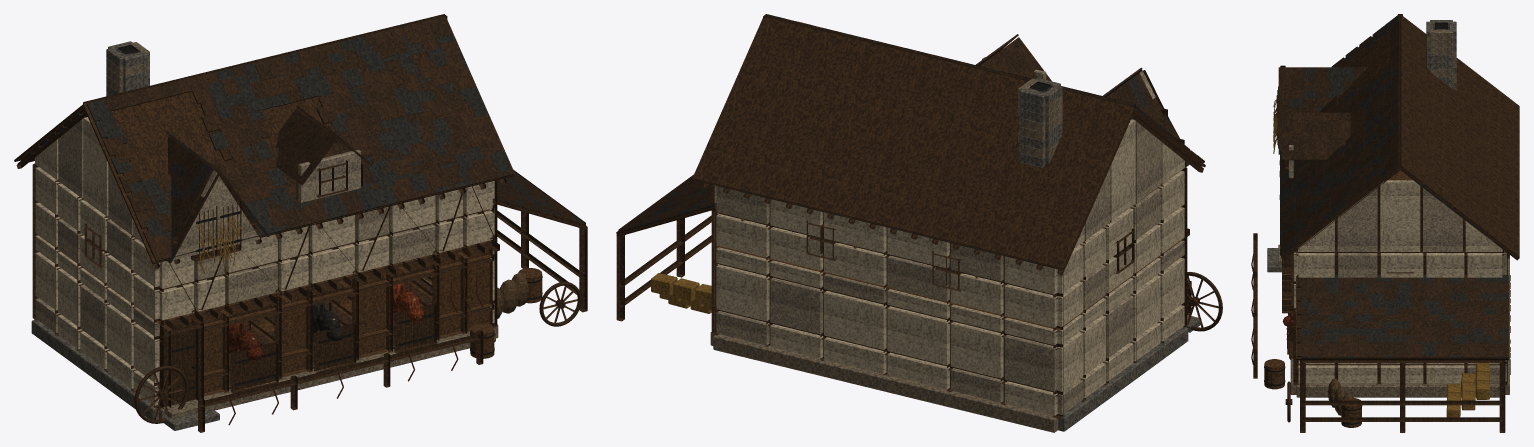
The model's file is medieval_stable_house_3d_runtime.glb.
3 renders of one model, left to right at view 1: azimuth 30°, elevation 25°; view 2: azimuth 150°, elevation 25°; view 3: azimuth 270°, elevation 25°, orthographic. The views are drawn at different scales.
Visible parts, largest first — view 1: MAIN_ROOF_DECK_-1, HAY_GABLE_FRONT_INFILL, PLINTH_FRONT, PLINTH_LEFT, DORMER_FRONT_WALL, HITCH_RAIL, GABLE_LEFT_INFILL_2, DOOR_STABLE_MAIN_PLANK_BODY, DOOR_STALL_1_PLANK_BODY, GABLE_LEFT_INFILL_3, FRONT_INFILL_2_3, DOOR_STALL_3_PLANK_BODY (+60 smaller); view 2: MAIN_ROOF_DECK_1, PLINTH_REAR, REAR_INFILL_2_1, REAR_INFILL_3_1, REAR_INFILL_4_1, REAR_INFILL_5_1, REAR_INFILL_0_1, REAR_INFILL_1_1, PLINTH_LEFT, REAR_INFILL_3_3, REAR_INFILL_2_3, GABLE_LEFT_INFILL_2 (+52 smaller); view 3: MAIN_ROOF_DECK_1, GABLE_RIGHT_INFILL_2, MAIN_ROOF_DECK_-1, GABLE_RIGHT_INFILL_1, PLINTH_RIGHT, GABLE_RIGHT_INFILL_3, LEAN_TO_RACK_8.45_1.15, RIGHT_INFILL_2_4, LEAN_TO_RACK_8.45_0.55, RIGHT_INFILL_1_4, RIGHT_INFILL_3_4, LEAN_TO_ROOF_DECK (+20 smaller).
Boxes of the visible parts, bbox=[...] form: MAIN_ROOF_DECK_-1: bbox=[83, 18, 515, 263]; HAY_GABLE_FRONT_INFILL: bbox=[173, 170, 260, 260]; PLINTH_FRONT: bbox=[159, 328, 495, 419]; PLINTH_LEFT: bbox=[31, 320, 158, 419]; DORMER_FRONT_WALL: bbox=[298, 149, 360, 202]; HITCH_RAIL: bbox=[200, 333, 480, 407]; GABLE_LEFT_INFILL_2: bbox=[83, 117, 108, 216]; DOOR_STABLE_MAIN_PLANK_BODY: bbox=[171, 329, 198, 405]; DOOR_STALL_1_PLANK_BODY: bbox=[230, 342, 278, 393]; GABLE_LEFT_INFILL_3: bbox=[58, 119, 83, 198]; FRONT_INFILL_2_3: bbox=[226, 262, 277, 304]; DOOR_STALL_3_PLANK_BODY: bbox=[394, 303, 436, 353]; MAIN_ROOF_DECK_1: bbox=[692, 17, 1134, 269]; PLINTH_REAR: bbox=[713, 334, 1058, 432]; REAR_INFILL_2_1: bbox=[887, 306, 949, 365]; REAR_INFILL_3_1: bbox=[824, 291, 886, 349]; REAR_INFILL_4_1: bbox=[770, 277, 823, 334]; REAR_INFILL_5_1: bbox=[716, 264, 769, 321]; REAR_INFILL_0_1: bbox=[1004, 335, 1057, 391]; REAR_INFILL_1_1: bbox=[950, 321, 1003, 378]; PLINTH_LEFT: bbox=[1058, 327, 1188, 431]; REAR_INFILL_3_3: bbox=[824, 242, 886, 285]; REAR_INFILL_2_3: bbox=[887, 255, 949, 301]; GABLE_LEFT_INFILL_2: bbox=[1110, 119, 1135, 221]; MAIN_ROOF_DECK_1: bbox=[1400, 15, 1519, 257]; GABLE_RIGHT_INFILL_2: bbox=[1380, 180, 1420, 251]; MAIN_ROOF_DECK_-1: bbox=[1282, 30, 1400, 258]; GABLE_RIGHT_INFILL_1: bbox=[1337, 187, 1377, 251]; PLINTH_RIGHT: bbox=[1296, 383, 1499, 397]; GABLE_RIGHT_INFILL_3: bbox=[1423, 188, 1462, 251]; LEAN_TO_RACK_8.45_1.15: bbox=[1302, 400, 1502, 405]; RIGHT_INFILL_2_4: bbox=[1380, 253, 1423, 277]; LEAN_TO_RACK_8.45_0.55: bbox=[1302, 417, 1502, 421]; RIGHT_INFILL_1_4: bbox=[1338, 253, 1377, 277]; RIGHT_INFILL_3_4: bbox=[1426, 253, 1464, 277]; LEAN_TO_ROOF_DECK: bbox=[1296, 276, 1509, 360].
Size of the model in its own units: 14.96 by 9.28 by 8.81.
Materials: 19 (19 with a texture image).
